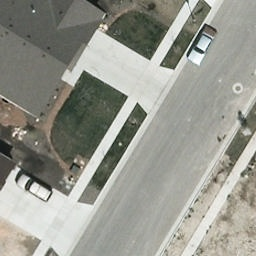car: (15, 169, 58, 203), (185, 26, 218, 68)
